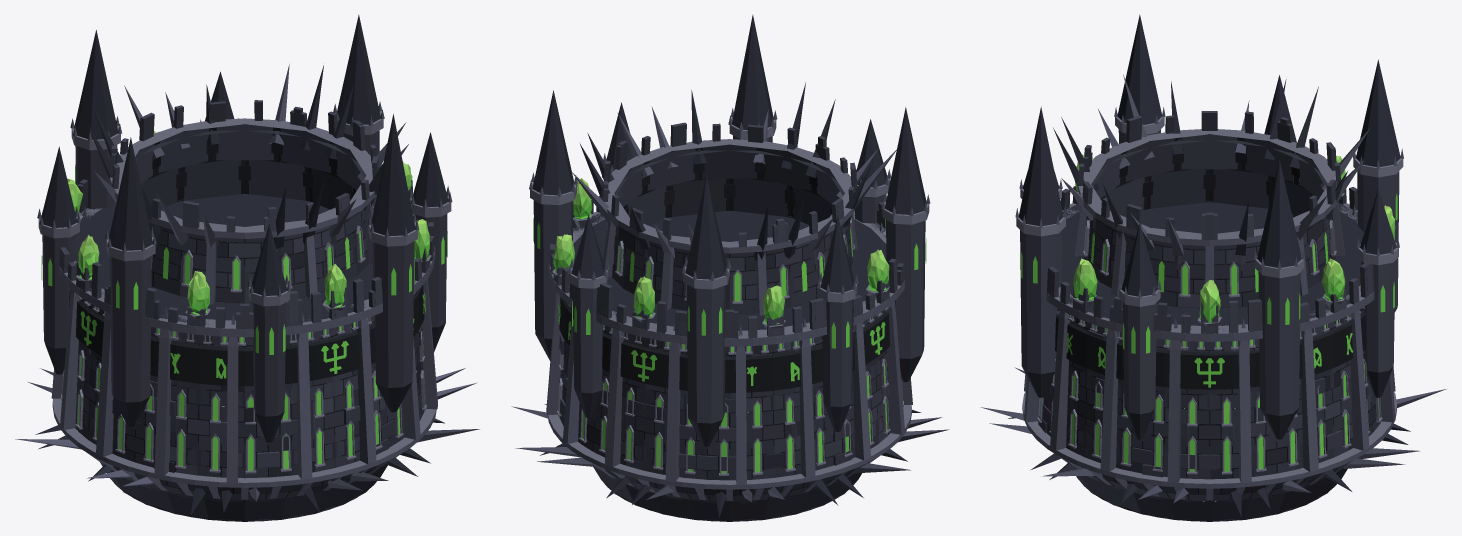
Rendered from WorldTower_4_Fortress.fbx.
The picture shows the model from 3 angles, left to right: view 1: azimuth 30°, elevation 25°; view 2: azimuth 150°, elevation 25°; view 3: azimuth 270°, elevation 25°; orthographic projection. The views are drawn at different scales.
Visible parts, largest first — view 1: Body_Far, Body_Near; view 2: Body_Far, Body_Near; view 3: Body_Far, Body_Near.
Part boxes in pixels (left/top/right/bottom): Body_Far: left=38, top=14, right=477, bottom=521; Body_Near: left=15, top=30, right=479, bottom=521; Body_Far: left=515, top=14, right=949, bottom=521; Body_Near: left=511, top=90, right=941, bottom=521; Body_Far: left=981, top=14, right=1410, bottom=521; Body_Near: left=989, top=59, right=1446, bottom=521.
Bounding box in the file's own units: 139 × 127 × 140.
